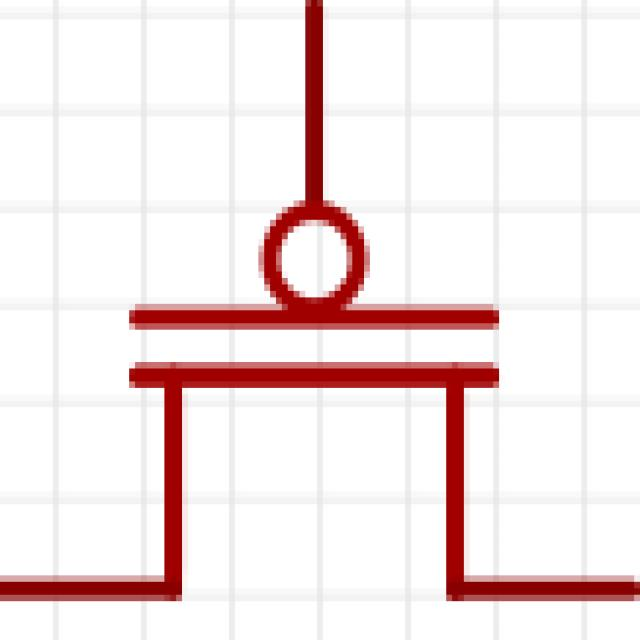pmos: (0, 67, 640, 640)
